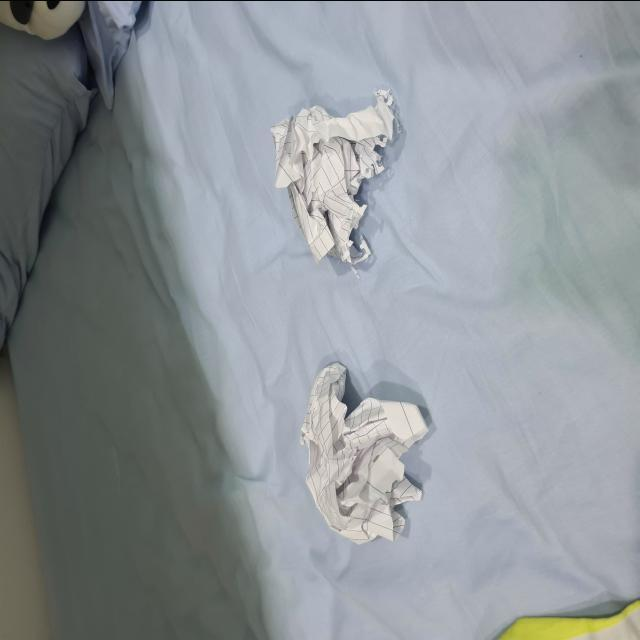Paper: (286, 347, 443, 560), (260, 72, 410, 283)
